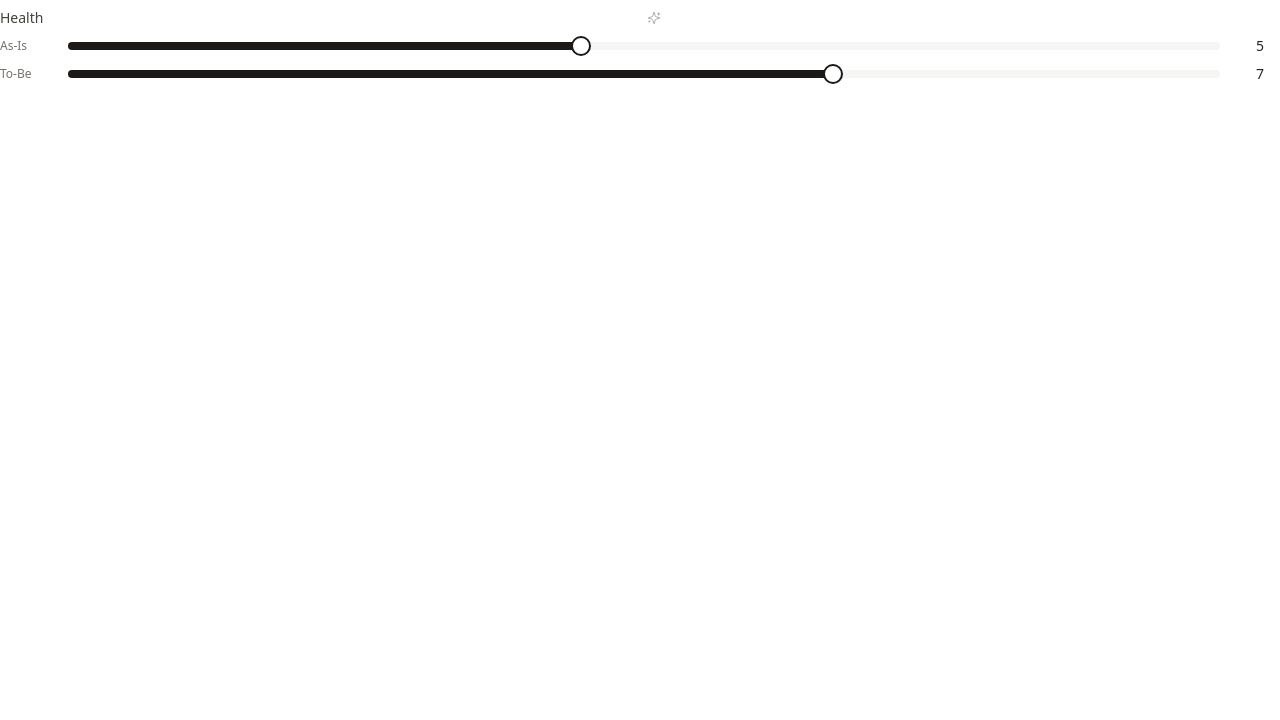
Test: CategorySlider › AI Coach button (AI-01) › clicking AI Coach when isPremiumForAi=false shows upgrade modal
Click the button named "ai coach". click: click(654, 18)
box: [647,11,661,25]
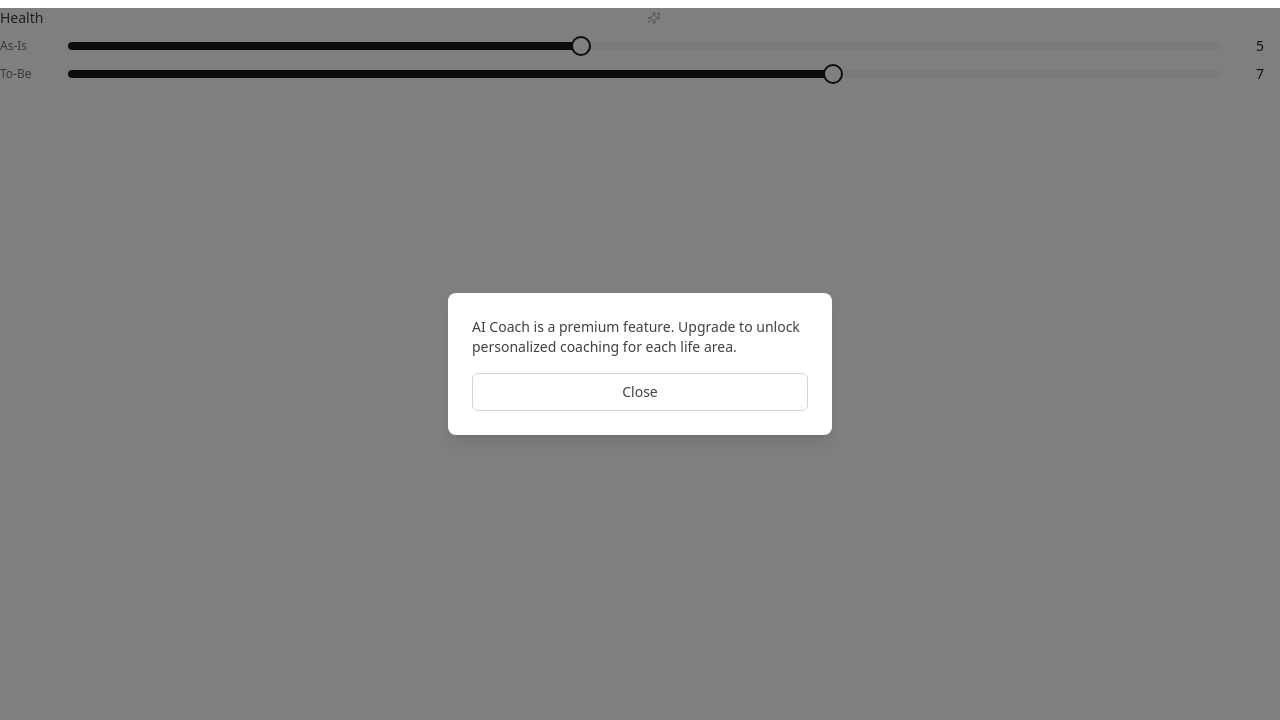
Check: the text "Upgrade" is shown, box [472,317,800,356]
